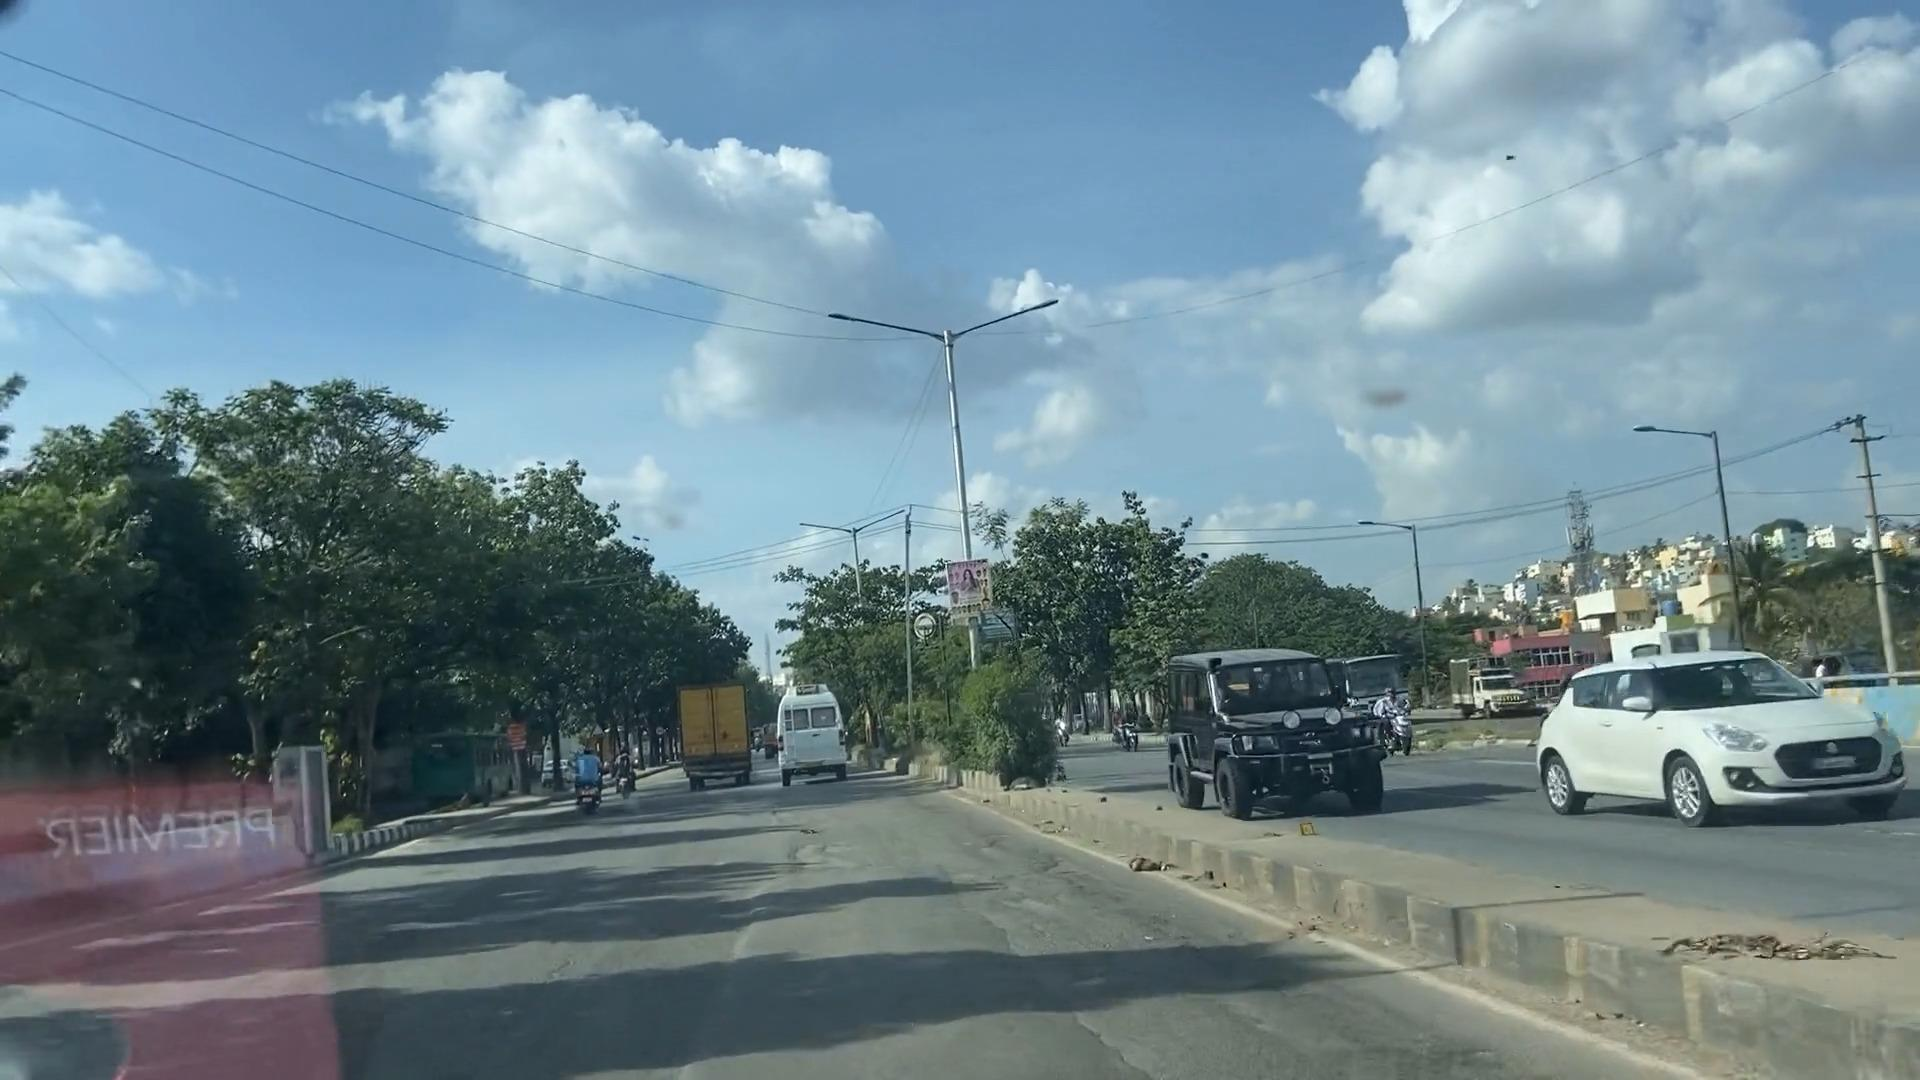HMV: (669, 670, 761, 779), (784, 680, 859, 781)
LMV: (549, 731, 611, 814)
RoadDamages: (1074, 917, 1183, 1080), (1221, 960, 1353, 1069), (977, 889, 1107, 950), (779, 826, 861, 907), (1003, 866, 1087, 934)
